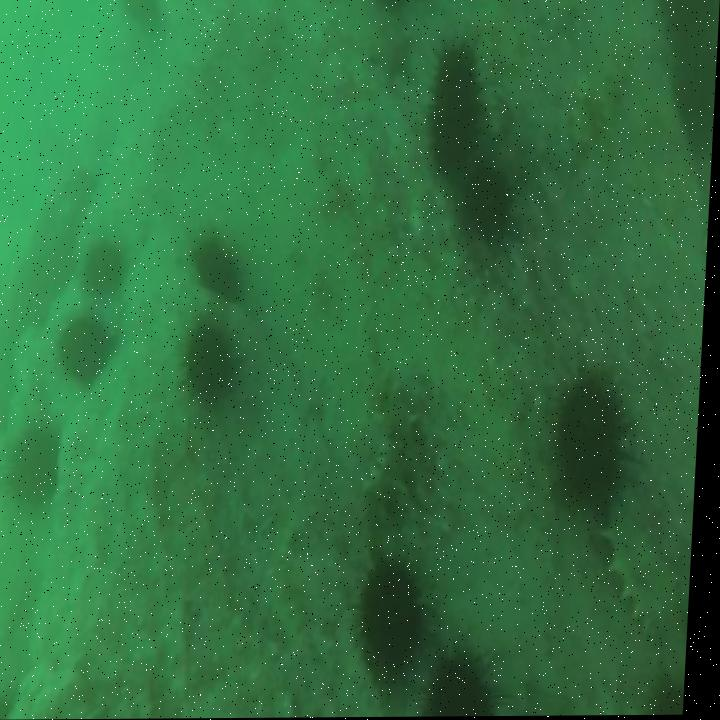echinus: (561, 378, 631, 509), (364, 561, 432, 671), (427, 45, 483, 163), (429, 658, 501, 714), (187, 326, 237, 401), (13, 433, 63, 503), (465, 168, 514, 237), (64, 319, 116, 380), (193, 244, 244, 294), (83, 246, 127, 301)
holothurian: (604, 513, 694, 640), (366, 365, 426, 506), (474, 24, 513, 129)
